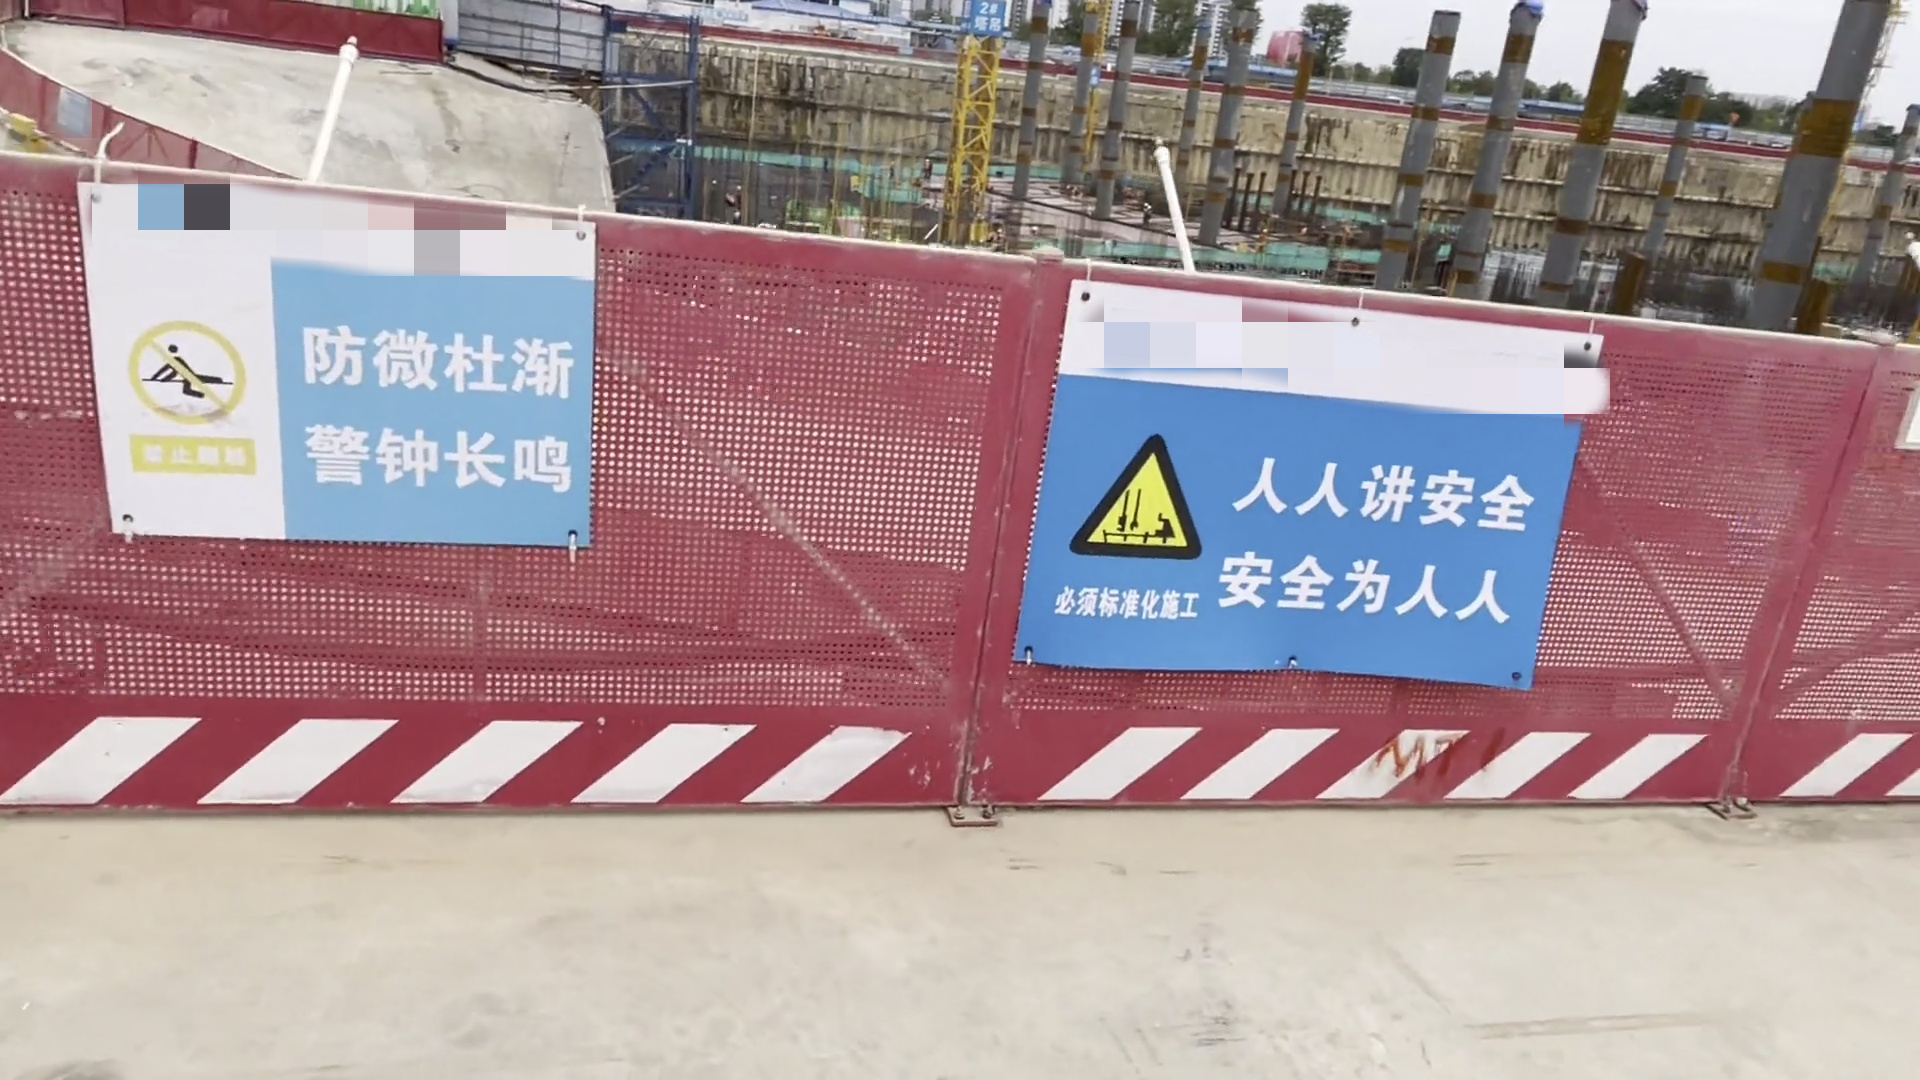fence: (11, 145, 982, 882), (971, 229, 1772, 885), (1776, 323, 1920, 806)
slogan: (1030, 382, 1524, 667), (98, 305, 576, 527)
